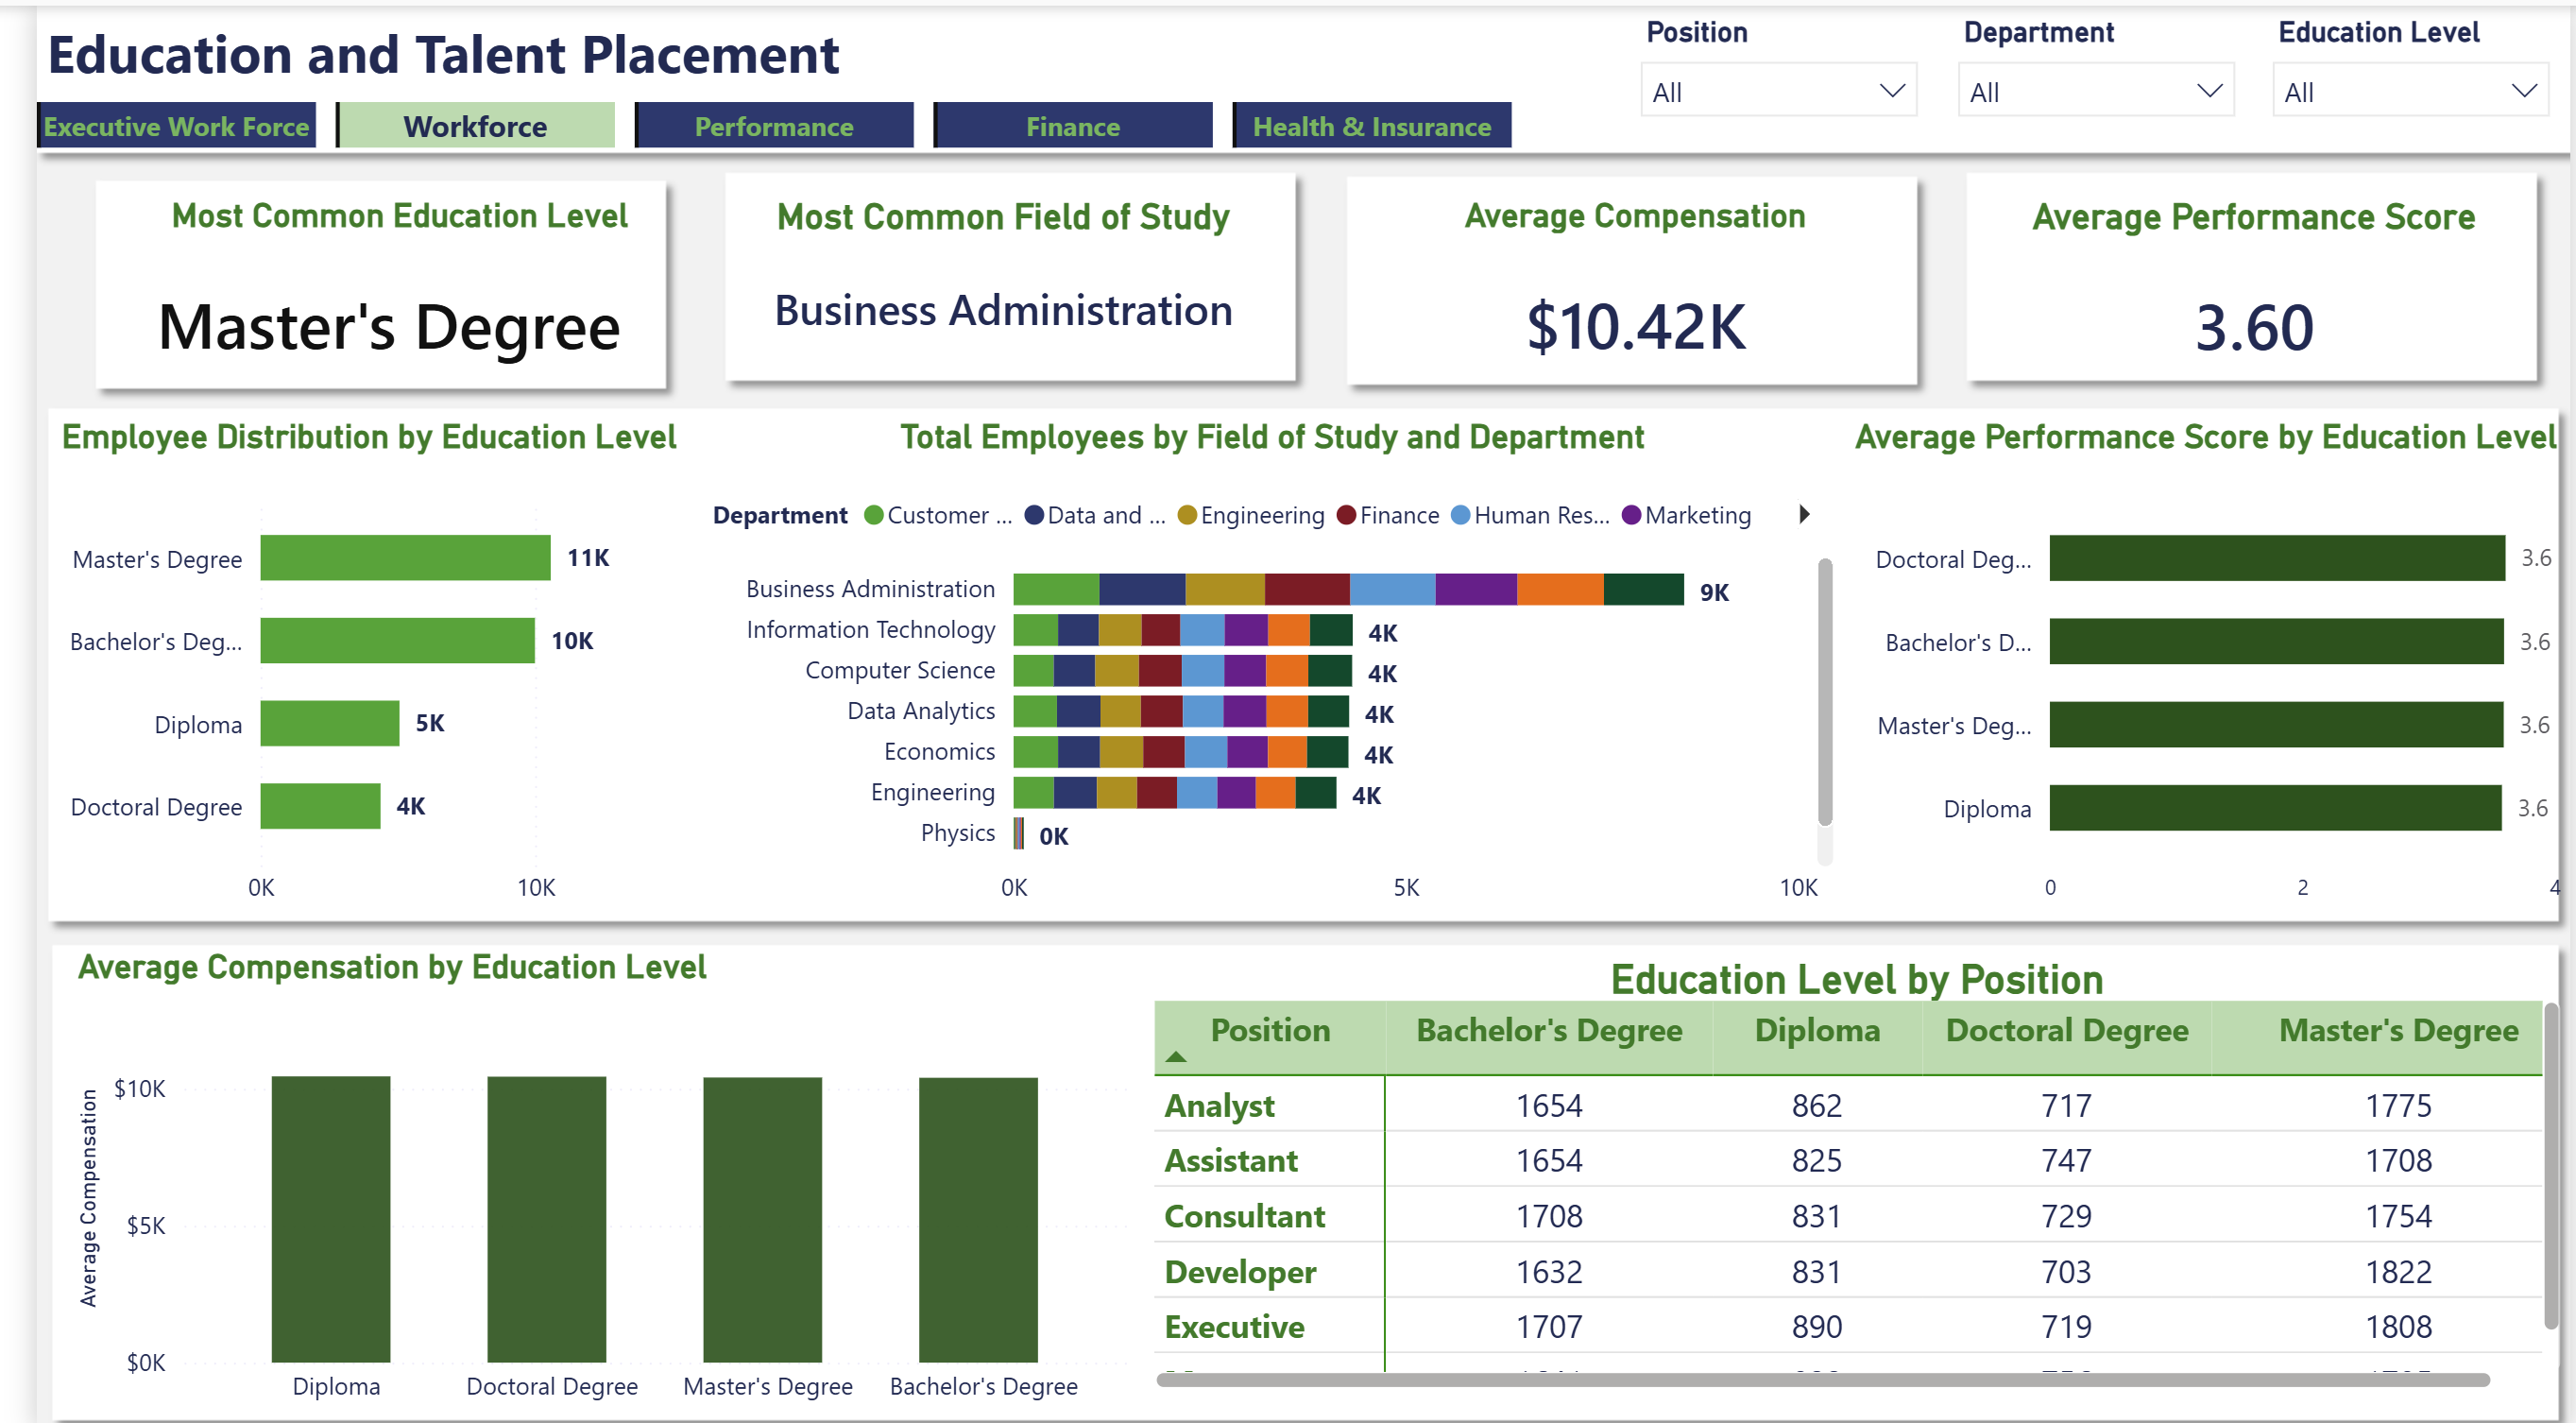

Layout of this report page (visuals, bound fields, positions):
{"tool":"powerbi","page":{"name":"Workforce ","canvas":[1280,720],"ordinal":1},"visuals":[{"type":"cardVisual","title":"Most Common Education Level","fields":{"Data":["company_hr_db vw_employee_profile.Most Common Education Level"]},"box":[32,96,304,112],"z":0},{"type":"cardVisual","title":"Most Common Field of Study","fields":{"Data":["company_hr_db vw_employee_profile.Most Common Field of Study"]},"box":[336,96,304,96],"z":1000},{"type":"cardVisual","title":"Average Compensation","fields":{"Data":["company_hr_db vw_employee_profile.Average Compensation"]},"box":[656,96,304,112],"z":2000},{"type":"cardVisual","title":"Average Performance Score","fields":{"Data":["company_hr_db vw_employee_performance_analysis.Average Performance Score"]},"box":[976,96,288,112],"z":3000},{"type":"clusteredBarChart","title":"Employee Distribution by Education Level","fields":{"Category":["company_hr_db vw_employee_profile.Education Level"],"Y":["company_hr_db vw_employee_profile.Employee Count"]},"box":[0,208,336,256],"z":4000},{"type":"barChart","fields":{"Category":["company_hr_db vw_employee_profile.field_of_study"],"Series":["company_hr_db vw_employee_profile.department_name"],"Y":["company_hr_db vw_employee_profile.Total Employees"]},"box":[336,208,576,256],"z":5000},{"type":"clusteredColumnChart","fields":{"Category":["company_hr_db vw_employee_profile.education_level"],"Y":["company_hr_db vw_employee_profile.Average Compensation"]},"box":[16,475,544,240],"z":6000},{"type":"clusteredBarChart","fields":{"Category":["company_hr_db vw_employee_performance_analysis.education_level"],"Y":["company_hr_db vw_employee_performance_analysis.Average Performance Score"]},"box":[912,208,368,256],"z":7000},{"type":"pivotTable","title":"Education Level by Position","fields":{"Columns":["company_hr_db vw_employee_profile.education_level"],"Rows":["company_hr_db vw_employee_profile.position"],"Values":["Count(company_hr_db vw_employee_profile.employee_id)"]},"box":[560,480,720,224],"z":8000},{"type":"textbox","box":[0,0,432,48],"z":9000},{"type":"slicer","fields":{"Values":["company_hr_db vw_employee_profile.Department"]},"box":[960,0,160,64],"z":10000},{"type":"slicer","fields":{"Values":["company_hr_db vw_employee_profile.Position"]},"box":[800,0,160,64],"z":11000},{"type":"slicer","fields":{"Values":["company_hr_db vw_employee_profile.Education Level"]},"box":[1120,0,160,64],"z":12000},{"type":"pageNavigator","box":[0,48,748,23],"z":13000}]}

Visuals, with their boxes in screenshot pixels (x1, y1, x2, y2), scaled from the page's 1280x720 canvas onto the 2576x1423 screenshot:
"Most Common Education Level" cardVisual: <region>64, 190, 676, 411</region>
"Most Common Field of Study" cardVisual: <region>676, 190, 1288, 380</region>
"Average Compensation" cardVisual: <region>1321, 190, 1932, 411</region>
"Average Performance Score" cardVisual: <region>1964, 190, 2544, 411</region>
"Employee Distribution by Education Level" clusteredBarChart: <region>0, 411, 676, 917</region>
barChart - company_hr_db vw_employee_profile.field_of_study x company_hr_db vw_employee_profile.department_name: <region>676, 411, 1835, 917</region>
clusteredColumnChart - company_hr_db vw_employee_profile.education_level x company_hr_db vw_employee_profile.Average Compensation: <region>32, 939, 1127, 1414</region>
clusteredBarChart - company_hr_db vw_employee_performance_analysis.education_level x company_hr_db vw_employee_performance_analysis.Average Performance Score: <region>1835, 411, 2575, 917</region>
"Education Level by Position" pivotTable: <region>1127, 949, 2575, 1392</region>
textbox: <region>0, 0, 869, 94</region>
slicer - company_hr_db vw_employee_profile.Department: <region>1932, 0, 2254, 127</region>
slicer - company_hr_db vw_employee_profile.Position: <region>1610, 0, 1932, 127</region>
slicer - company_hr_db vw_employee_profile.Education Level: <region>2254, 0, 2575, 127</region>
pageNavigator: <region>0, 94, 1506, 141</region>
